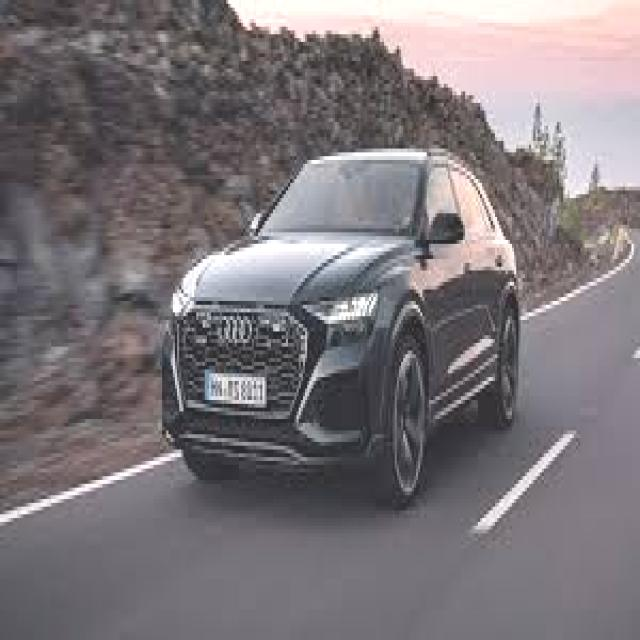SUV: (163, 140, 527, 503)
